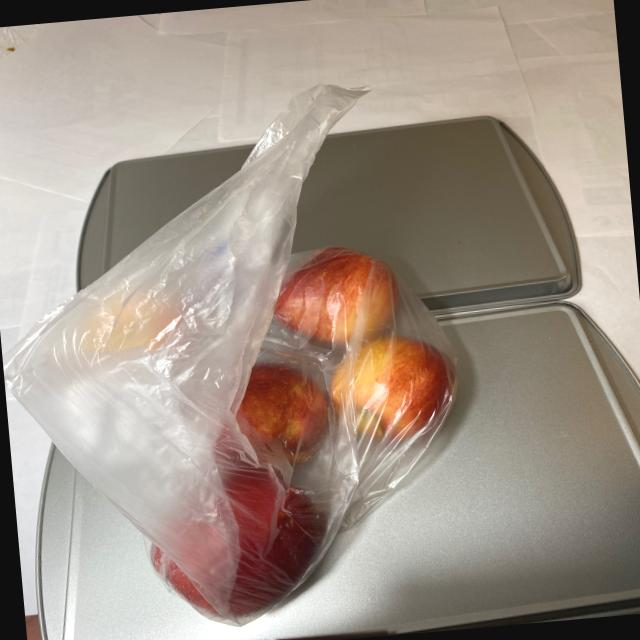apple: (115, 224, 479, 634)
